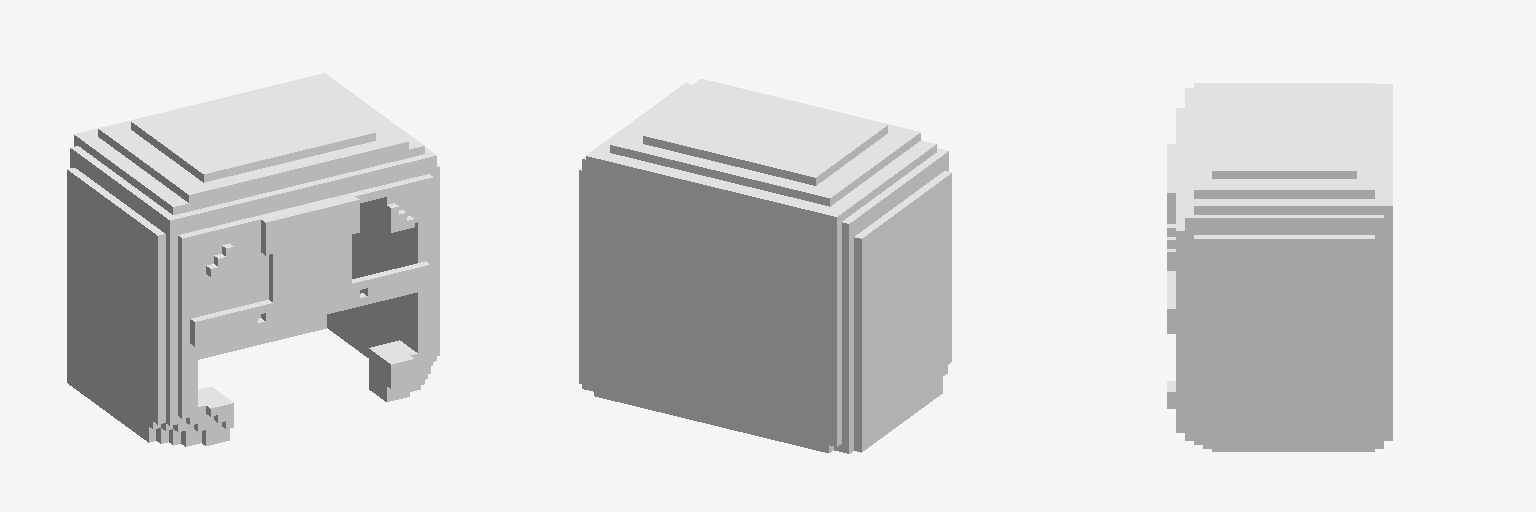
The model's file is humanoid-65.obj.
The picture shows the model from 3 angles: view 1: azimuth 30°, elevation 25°; view 2: azimuth 150°, elevation 25°; view 3: azimuth 270°, elevation 25°; orthographic projection.
Visible parts, largest first — view 1: humanoid-65; view 2: humanoid-65; view 3: humanoid-65.
Part boxes in pixels (x1,y1,x2,y2): humanoid-65: (67, 73, 439, 446); humanoid-65: (579, 79, 951, 453); humanoid-65: (1167, 83, 1392, 451).
Bounding box in the file's own units: 36 × 31 × 25.